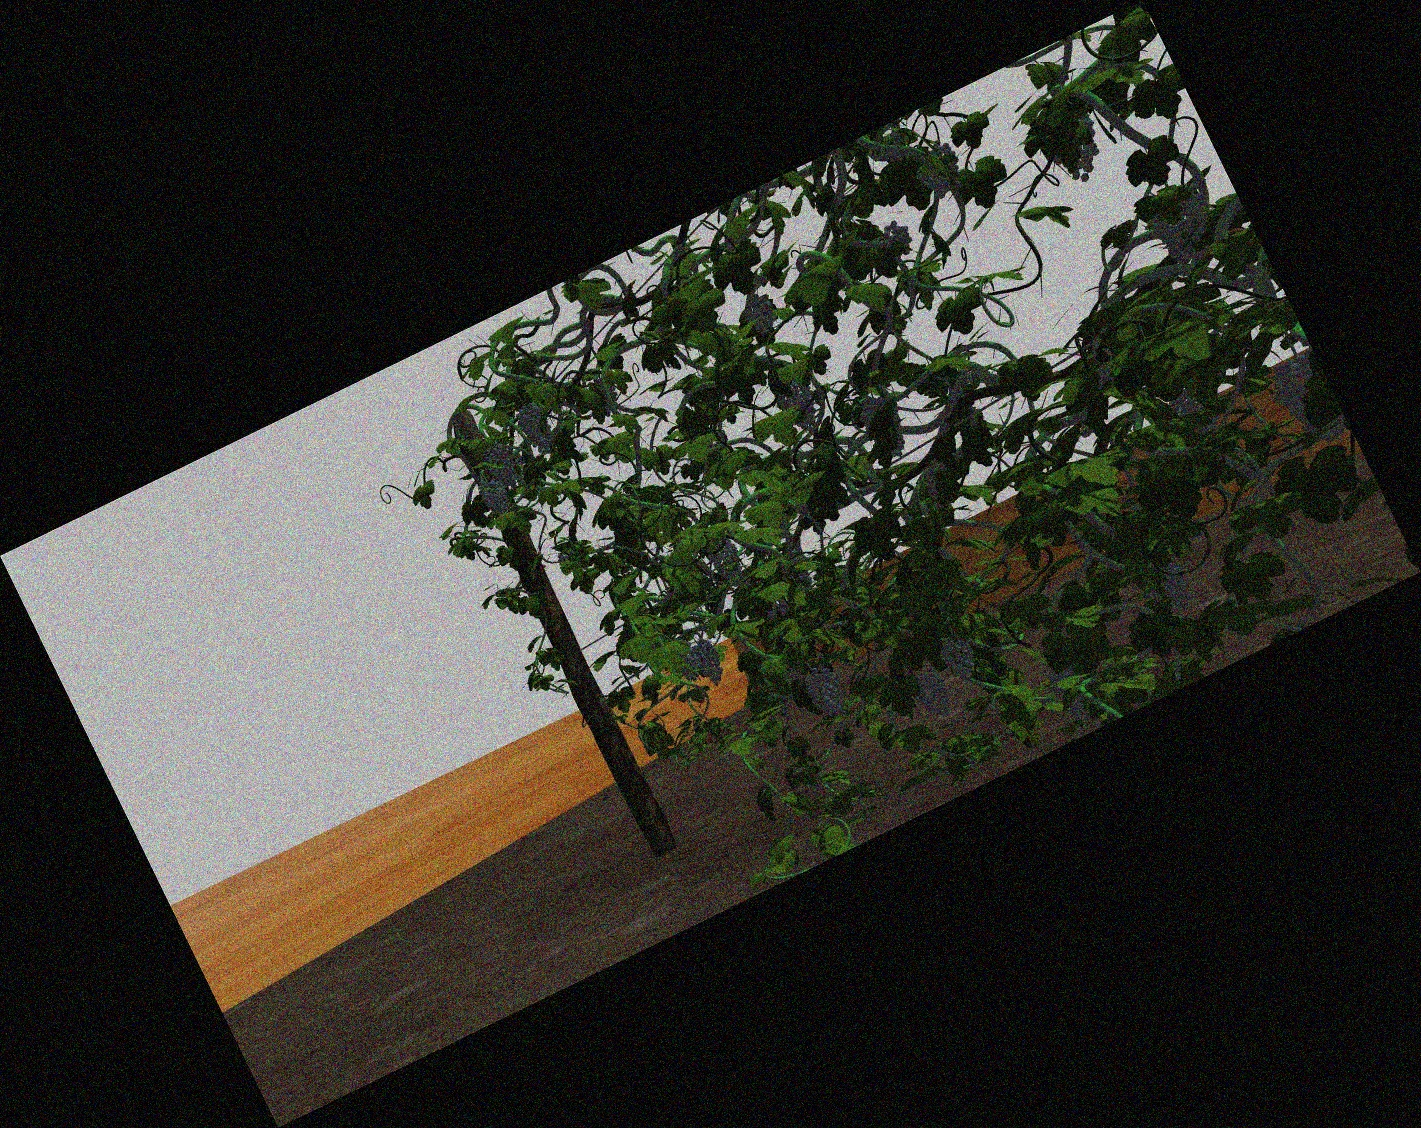grape: (1281, 360, 1330, 448), (1155, 191, 1212, 258), (919, 148, 961, 195), (1146, 567, 1190, 611), (781, 377, 815, 433), (1057, 668, 1088, 724), (811, 668, 842, 722), (915, 671, 949, 720), (691, 642, 724, 689), (522, 403, 552, 452), (946, 638, 975, 680), (745, 294, 777, 332), (712, 541, 740, 582), (882, 220, 912, 260), (488, 442, 514, 486), (483, 479, 507, 520)
